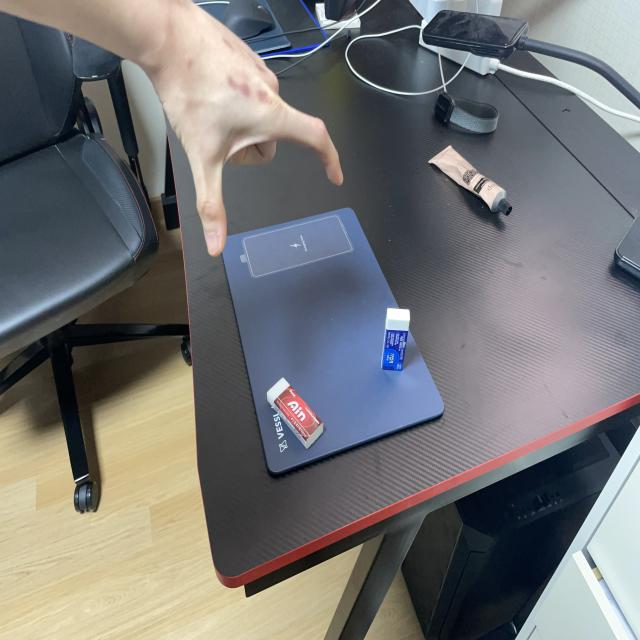blue: (376, 297, 415, 379)
red: (263, 371, 332, 455)
